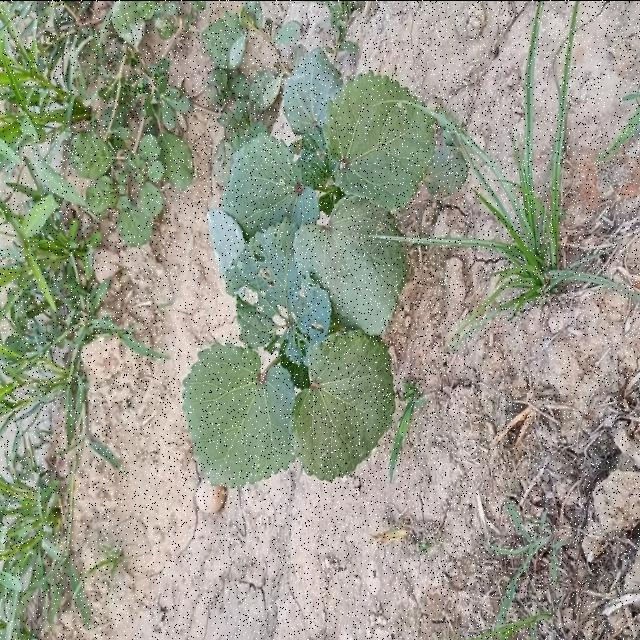plant: (182, 51, 433, 486)
